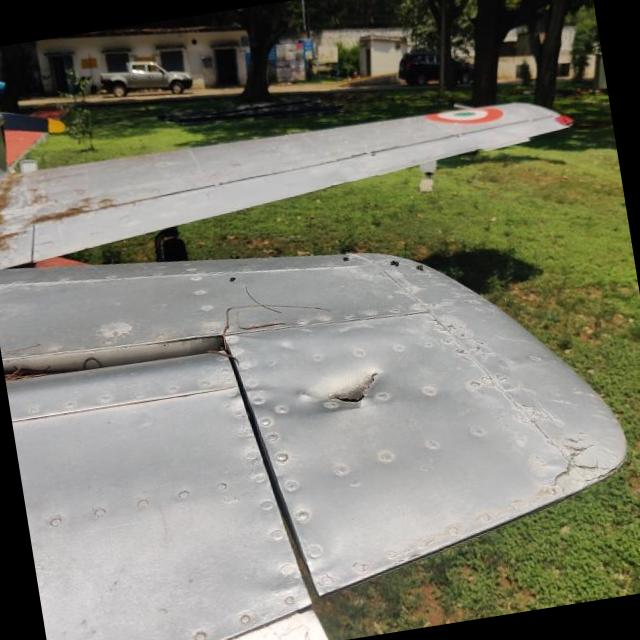Crack: (300, 367, 378, 412)
